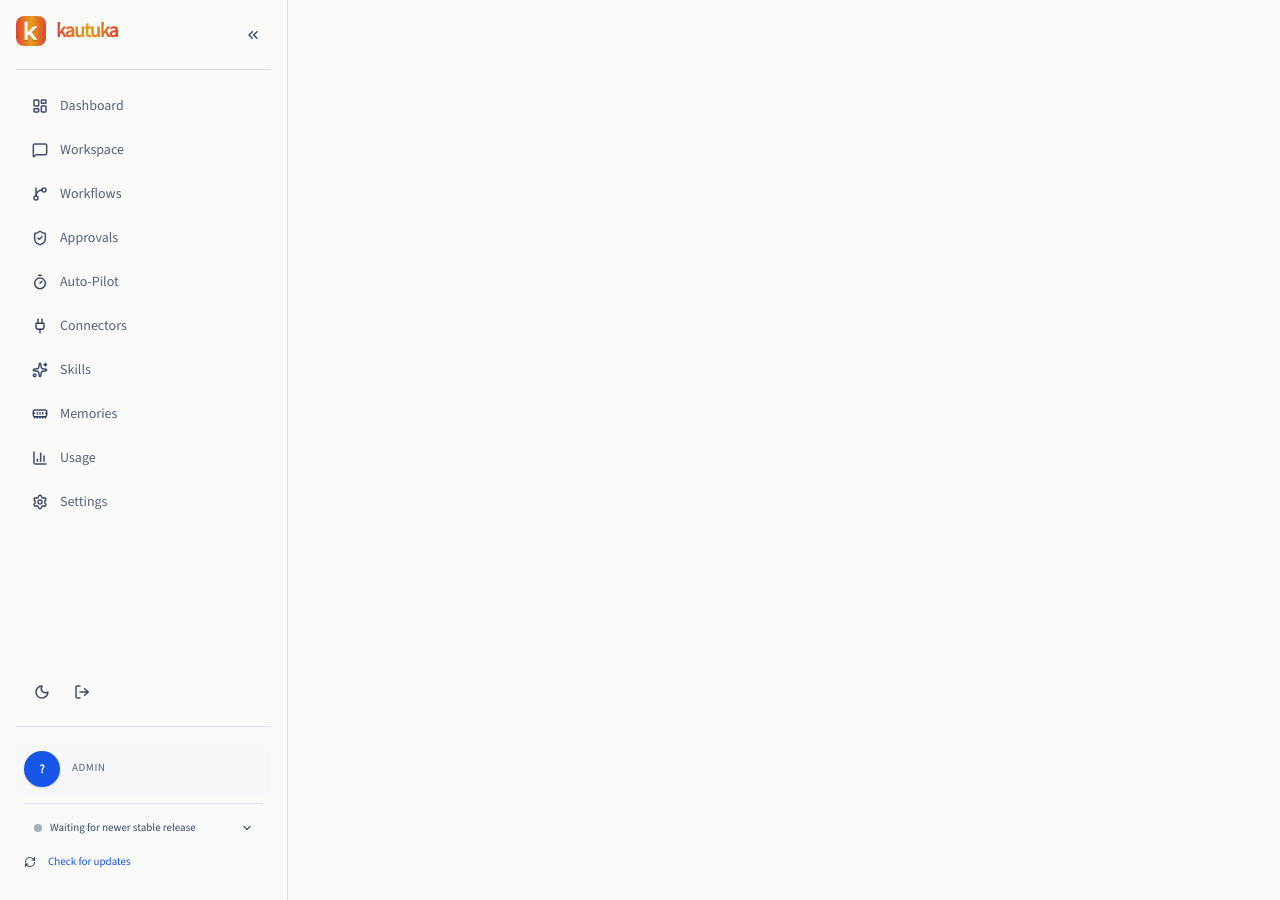
Test case: App update banner › shows a short-lived sidebar confirmation after checking when already current
Click the button "Check for updates": coordinates (77, 862) [24, 848, 131, 876]
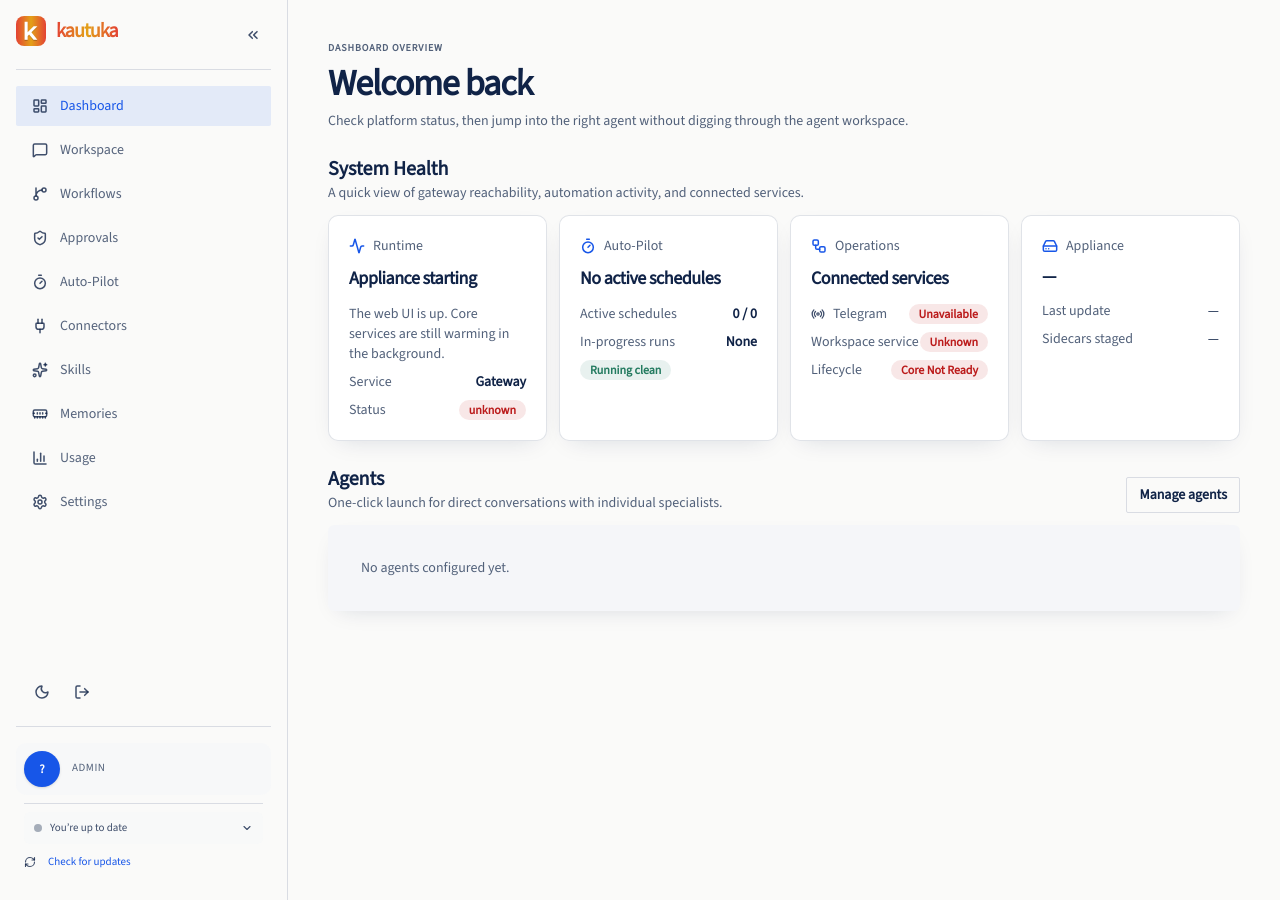
Now the text "You’re up to date" is shown, box [50, 820, 127, 834]
